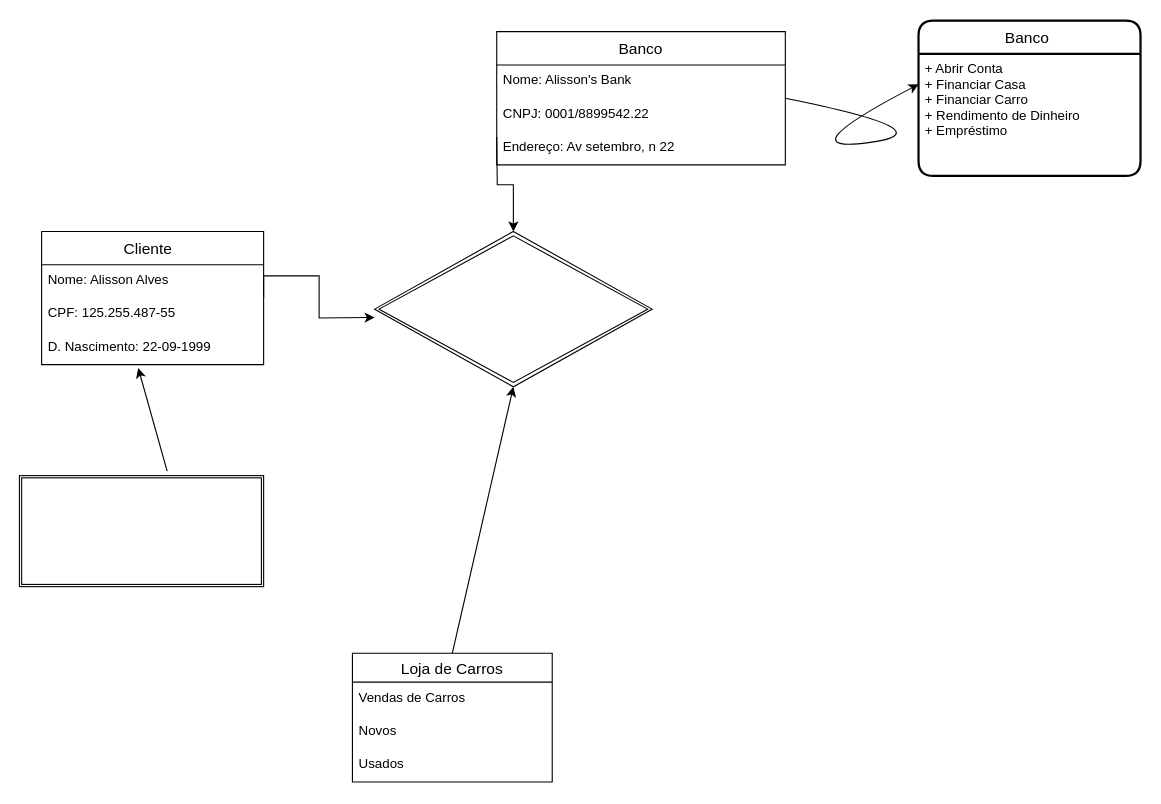
The diagram is 1161 pixels wide and 804 high, and some of its shapes have lost their labels. Each missing label, with the centre of its shape:
"Abrir conta no Banco. Compra de Casa." goes at point 513,308.
"Cliente: Financiar Carro Financiar Casa" goes at point 141,531.
